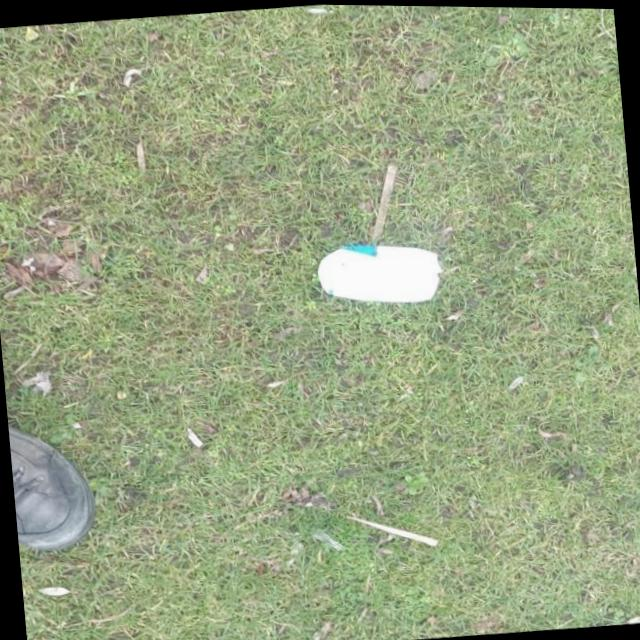Can-Metal: (310, 234, 448, 305)
